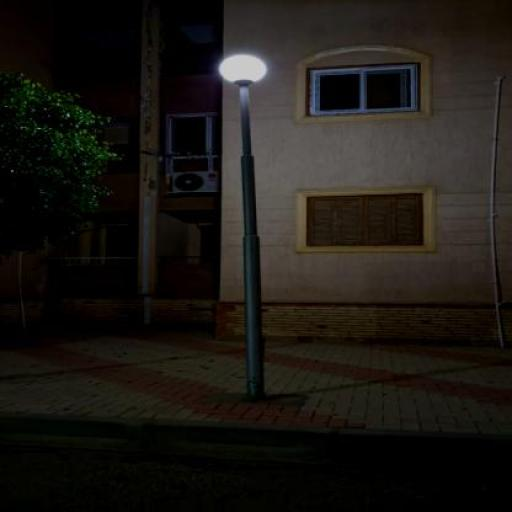street light: (216, 53, 274, 402)
